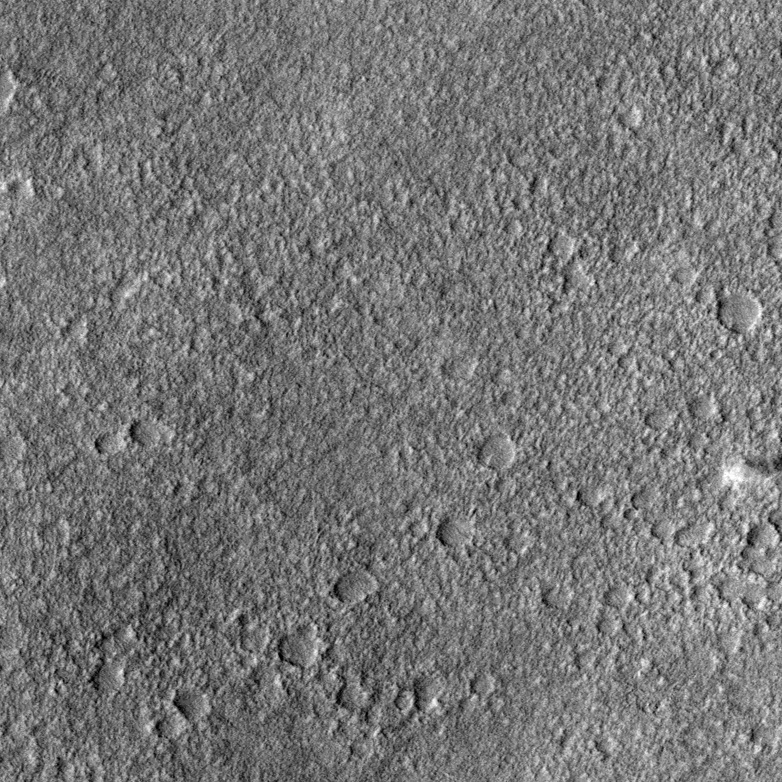dust_devil: (720, 455, 782, 493)
